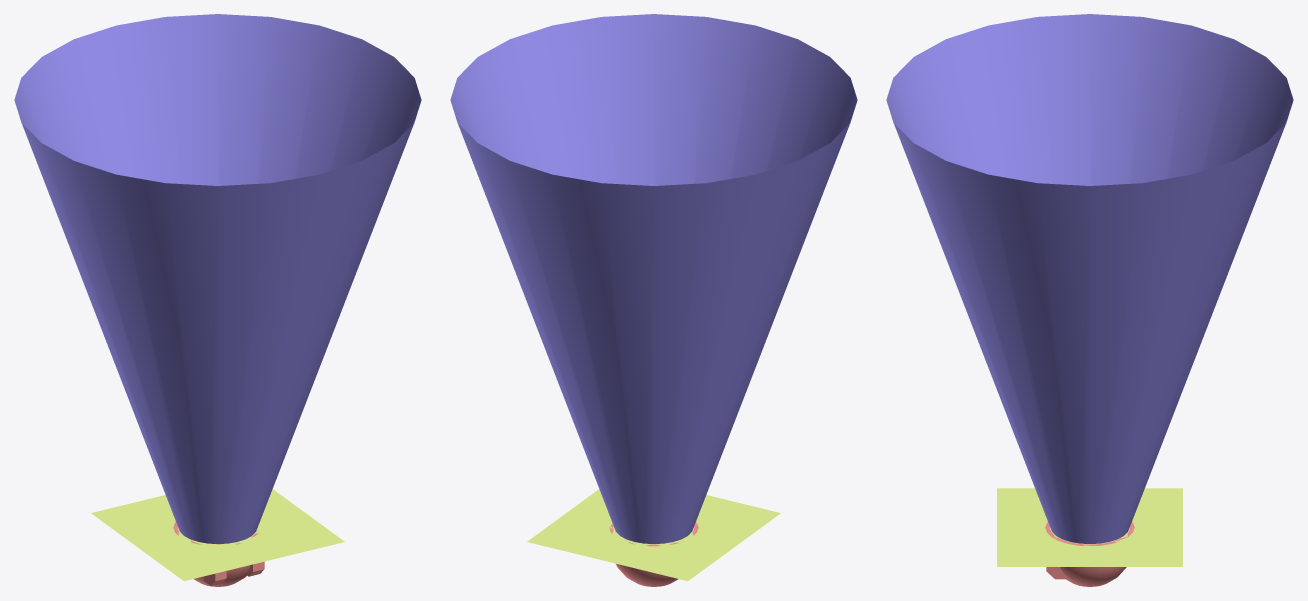
File: Light_Deng1_1X1_on.FBX
3 renders of one model, left to right at view 1: azimuth 30°, elevation 25°; view 2: azimuth 150°, elevation 25°; view 3: azimuth 270°, elevation 25°, orthographic.
Parts seen in each view (by area): view 1: Box005; view 2: Box005; view 3: Box005.
Part boxes in pixels (left/top/right/bottom): Box005: left=14, top=14, right=421, bottom=586; Box005: left=450, top=14, right=857, bottom=586; Box005: left=886, top=14, right=1293, bottom=586.
Bounding box in the file's own units: 4.65 × 6.02 × 4.65.
